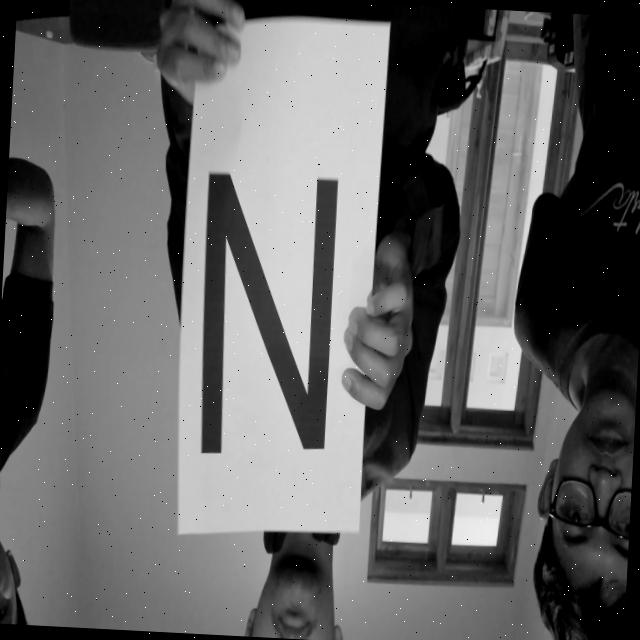n: (172, 163, 360, 468)
